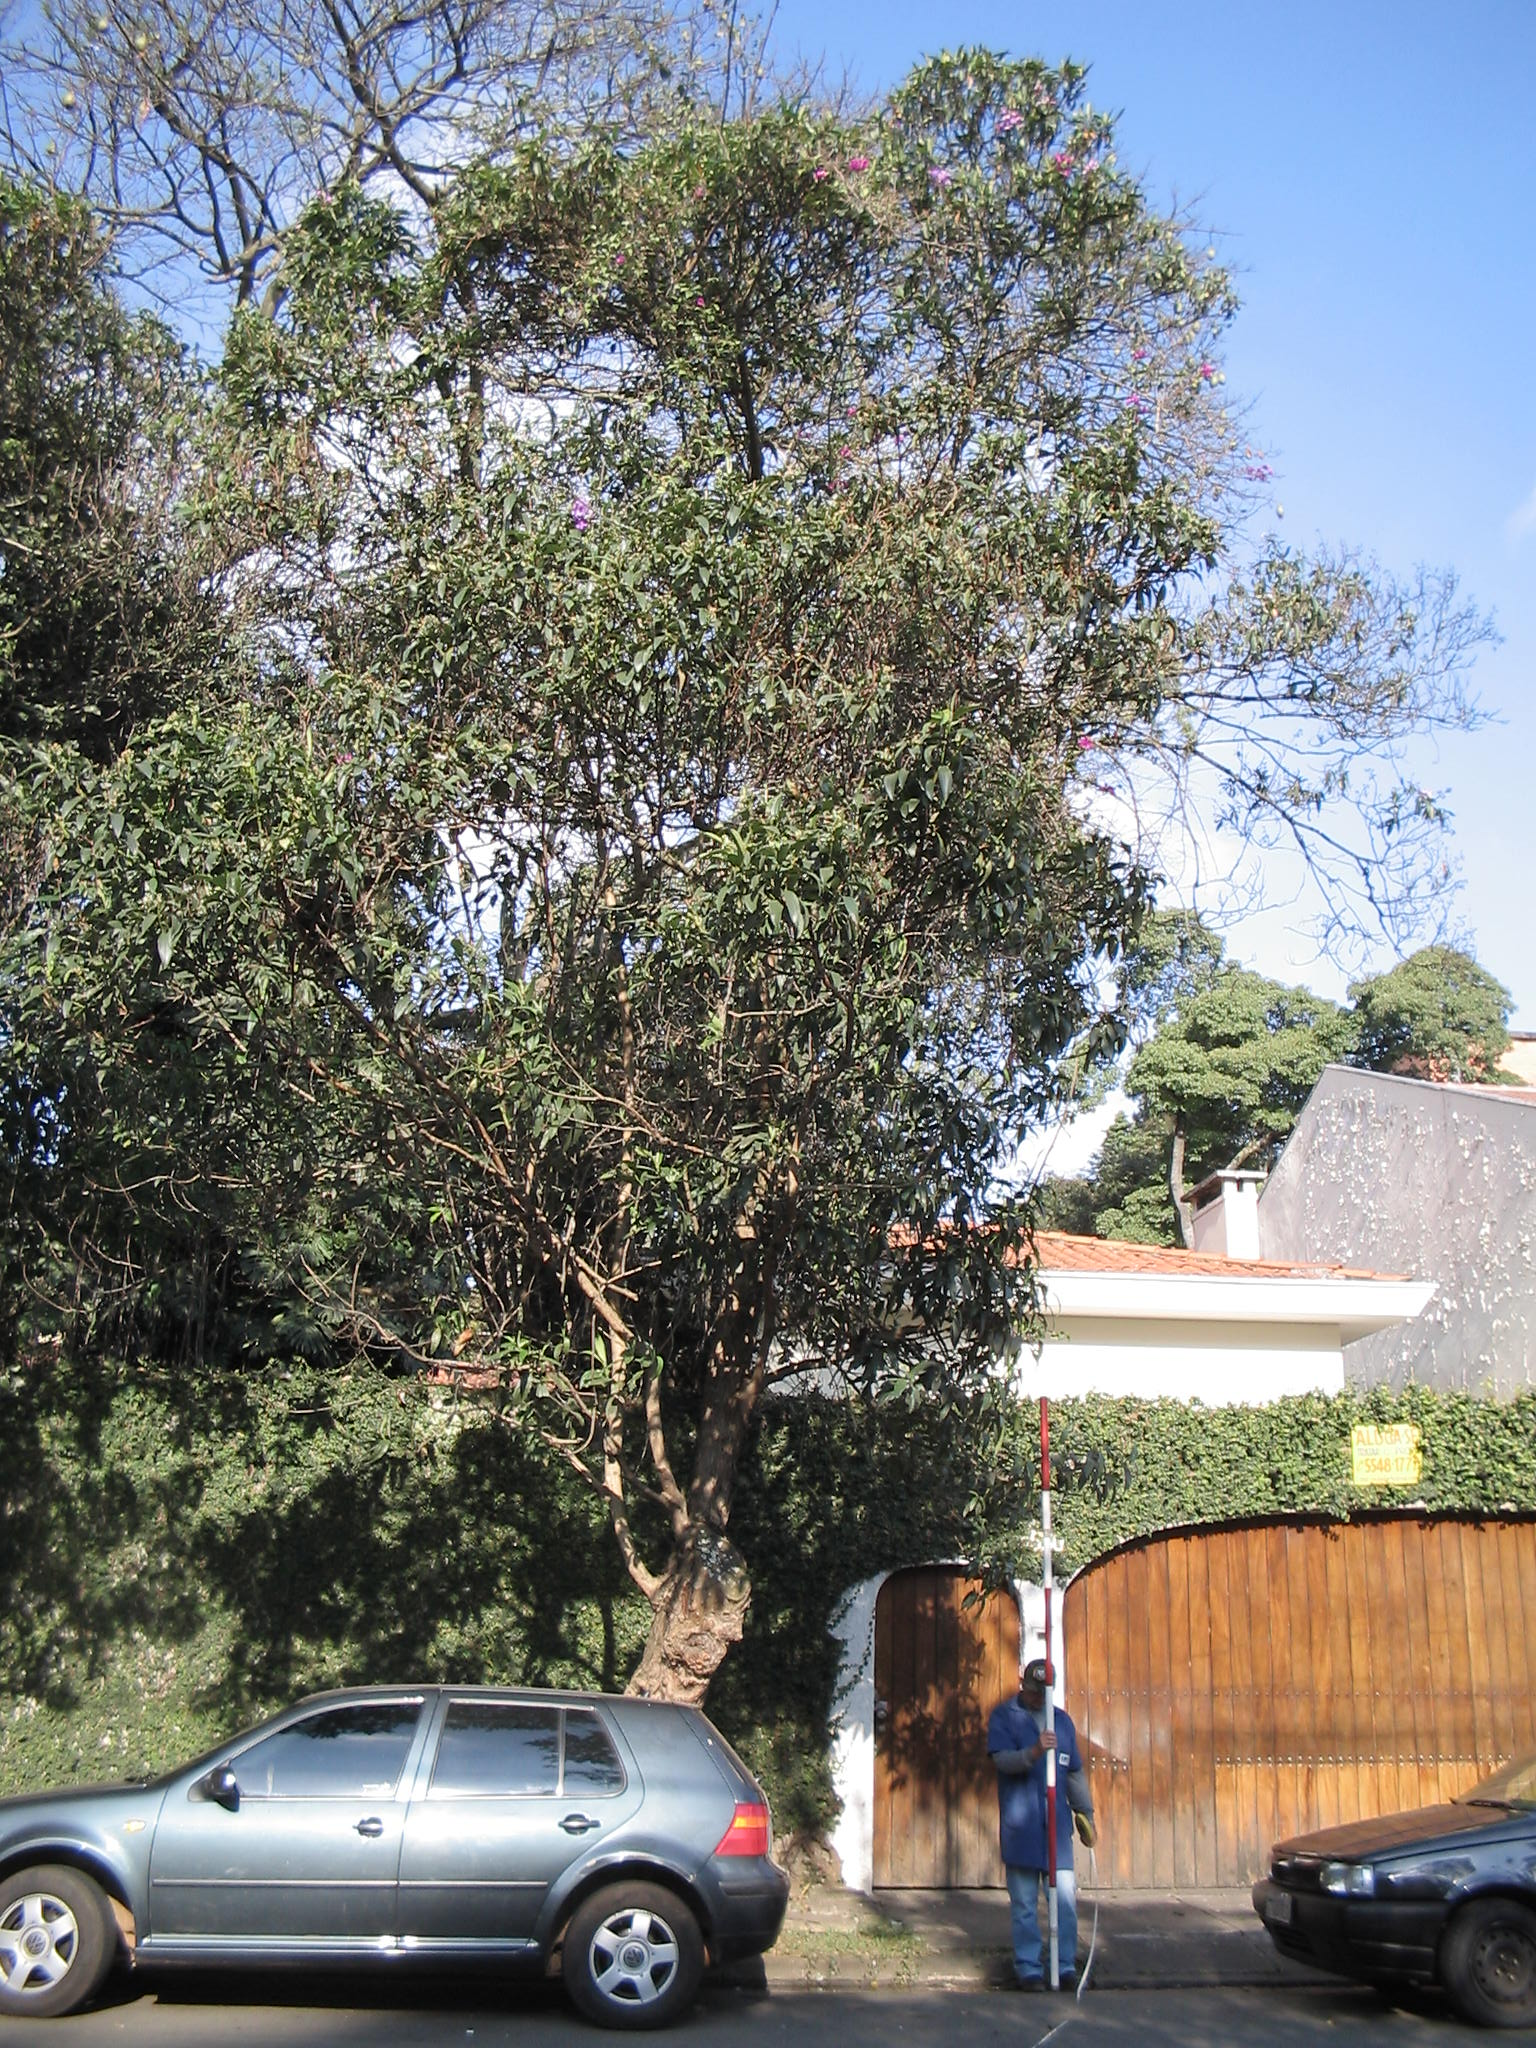crown: (100, 73, 1463, 1448)
stick: (1028, 1393, 1075, 1987)
tree: (95, 65, 1468, 1985)
